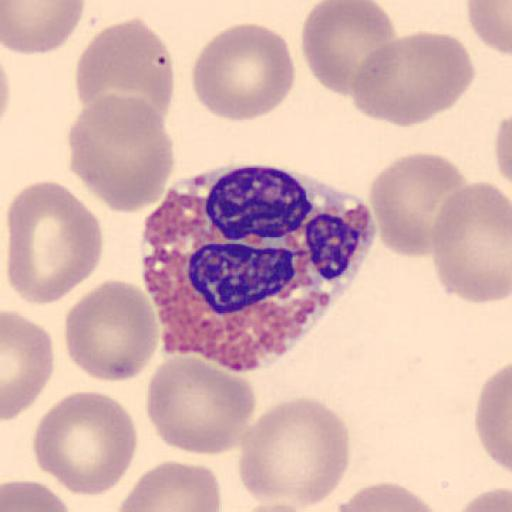RBC: (67, 92, 176, 214), (237, 396, 352, 510), (4, 178, 103, 307), (350, 29, 476, 128), (32, 388, 139, 498), (144, 354, 258, 457), (73, 16, 176, 126), (367, 151, 469, 259), (190, 21, 295, 124), (429, 179, 512, 306), (63, 278, 160, 384), (300, 0, 398, 99), (1, 309, 54, 422), (116, 458, 222, 512), (1, 0, 85, 56), (473, 361, 512, 475), (334, 479, 442, 512), (468, 0, 512, 55), (2, 478, 73, 512), (492, 111, 512, 218), (454, 486, 511, 512), (493, 113, 512, 182), (240, 499, 309, 512), (0, 56, 11, 133), (240, 502, 318, 512)
WBC: (139, 164, 377, 371)
